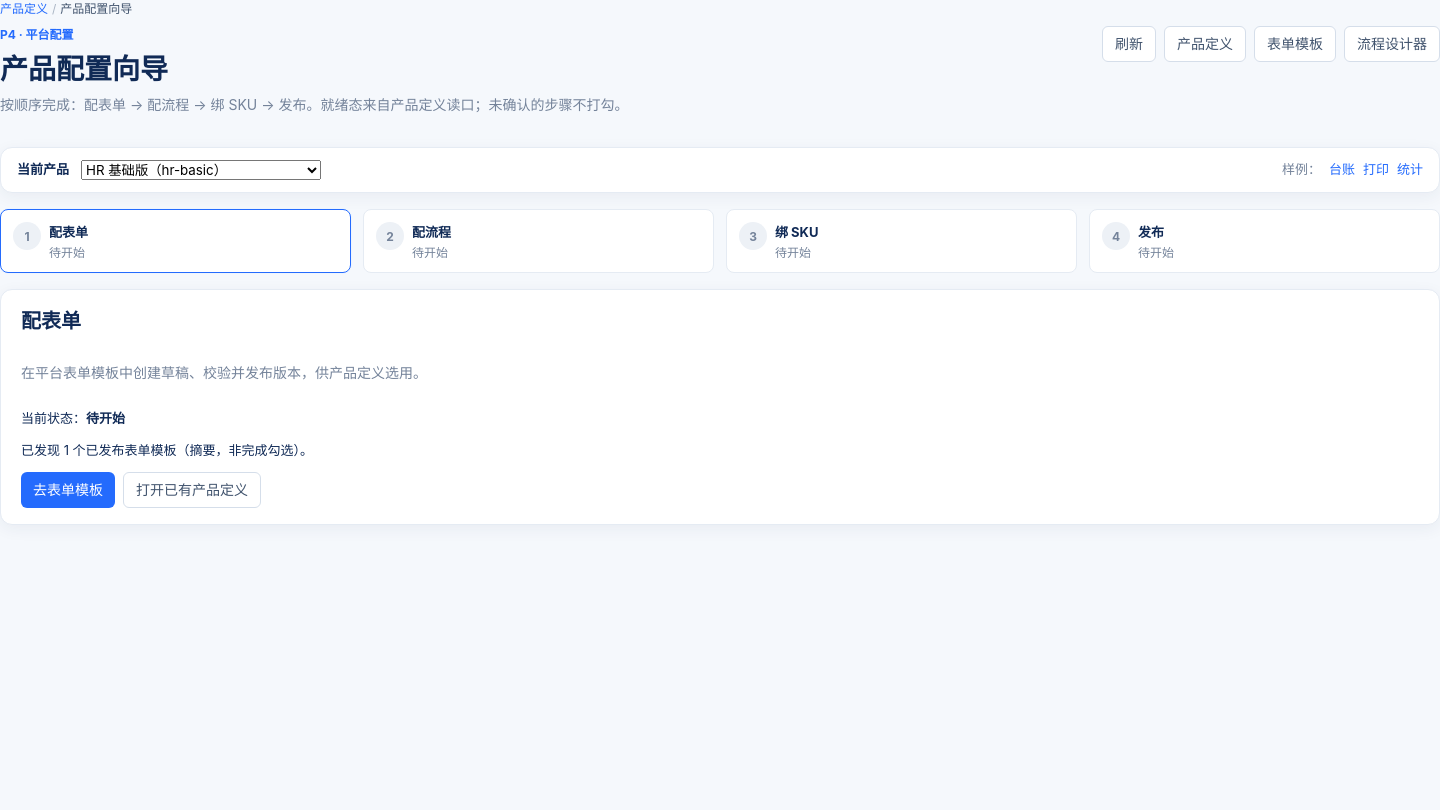
Test: product config wizard empty/error (PC3) › binds an SKU from the wizard panel via the existing bind API (PC4)
Click the button "3 绑 SKU 待开始" at [797, 232], box [727,210,1076,272]
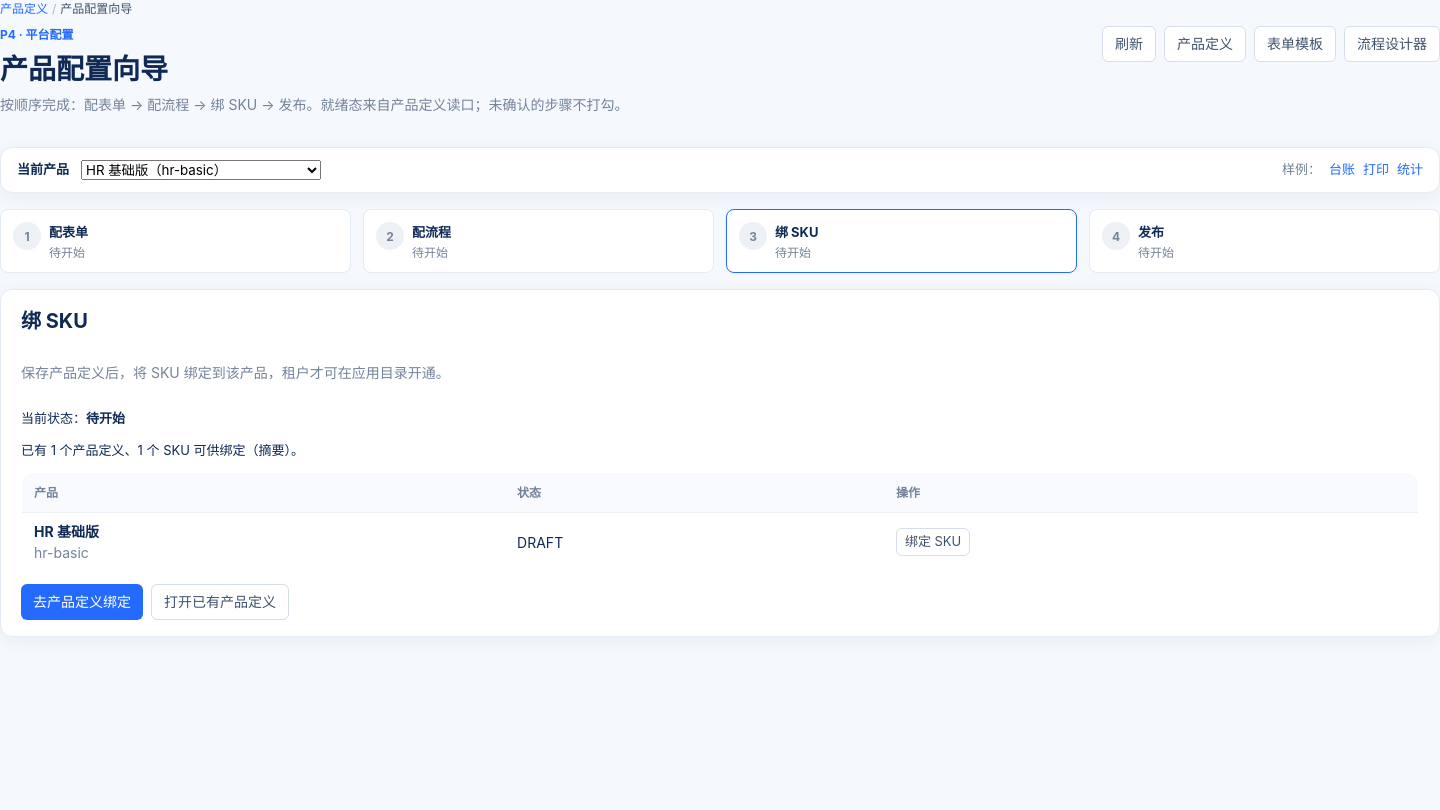
Expected: the table with test id "wizard-definition-list" shows "HR 基础版", [34,523,99,540]
Click the button with test id "wizard-bind-open-hr-basic" at [933, 542], box [896,528,970,556]
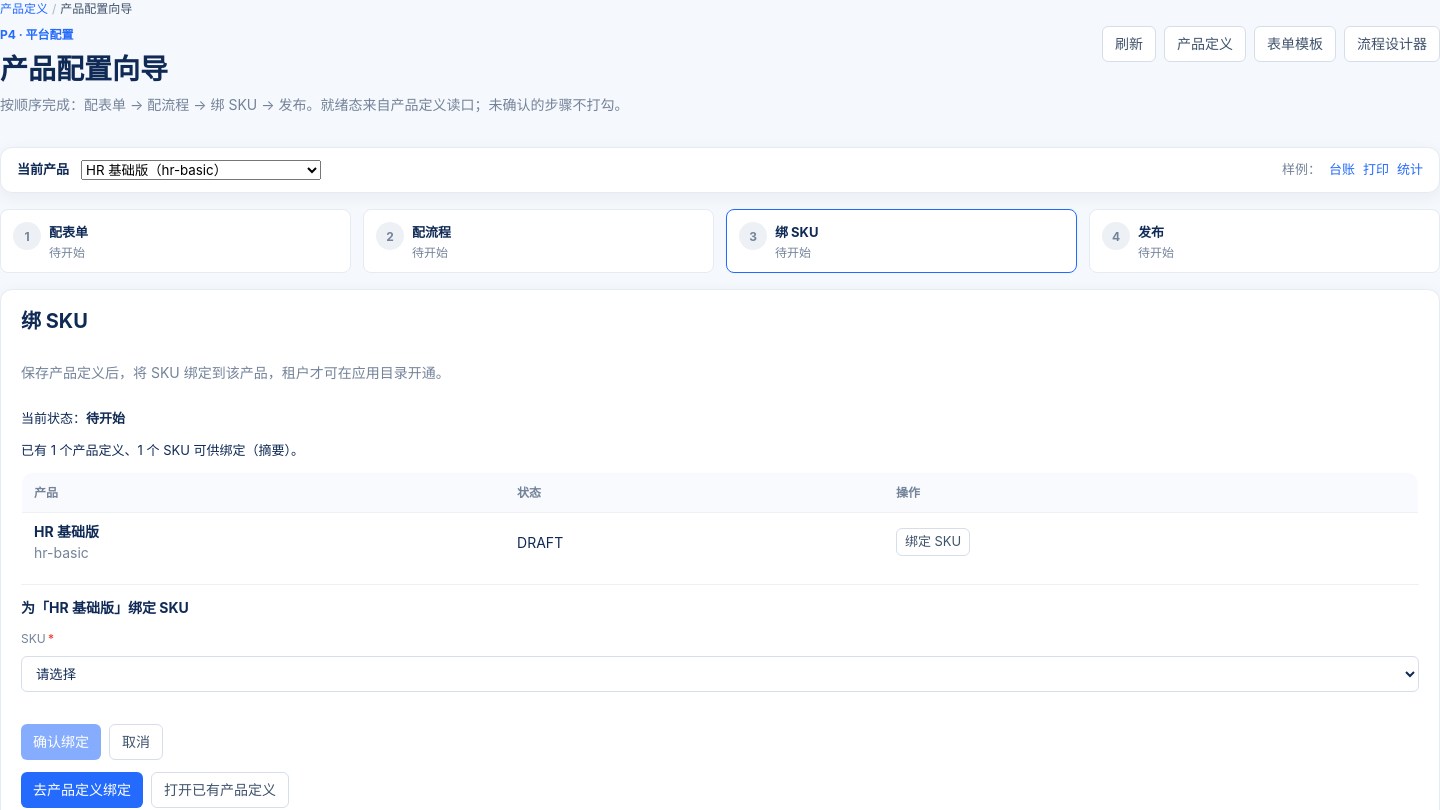
Select "专业版（crm-pro）" in the dropdown with test id "wizard-bind-sku" at [720, 674], box [21,656,1419,692]
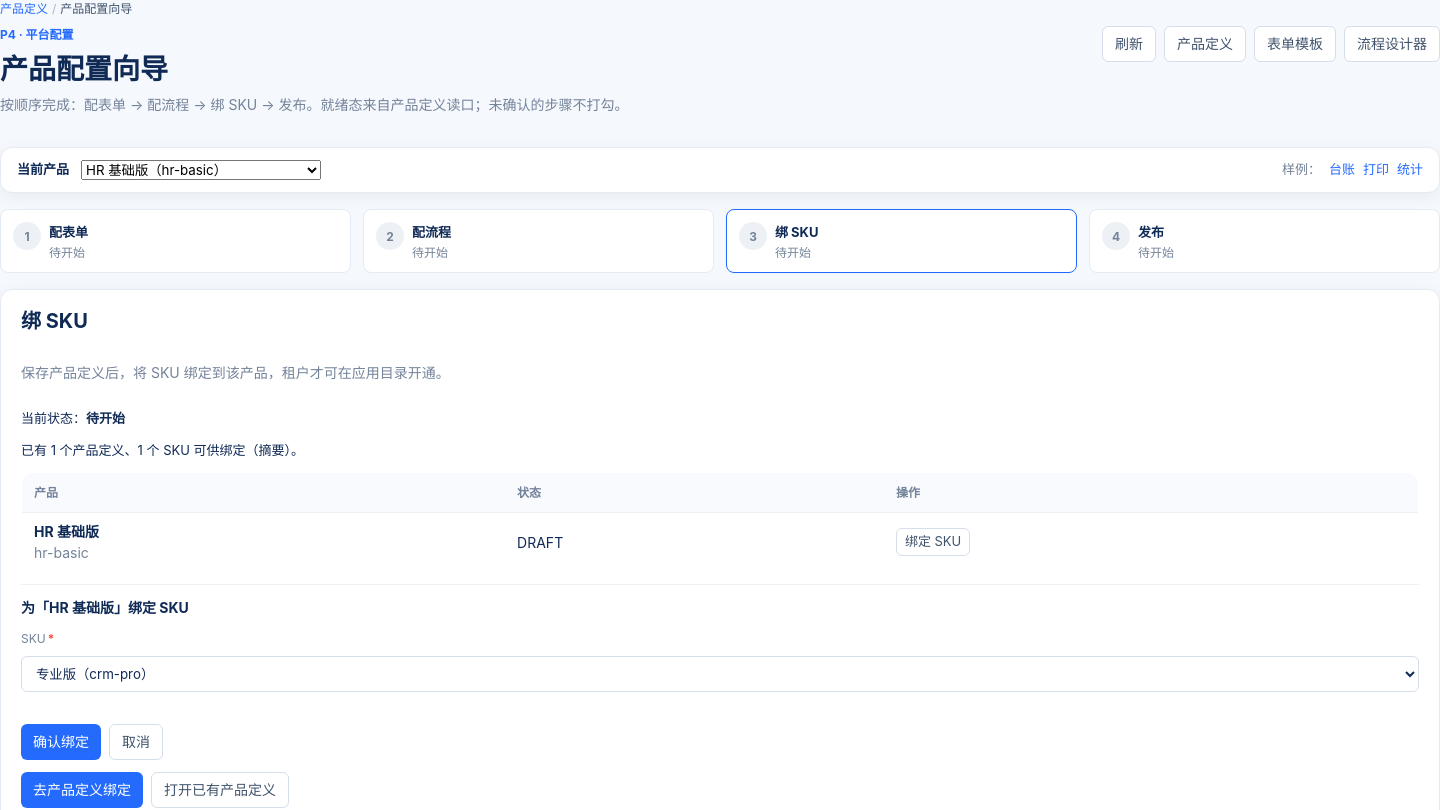
Submit the form with test id "wizard-bind-form", box [21,584,1419,760]
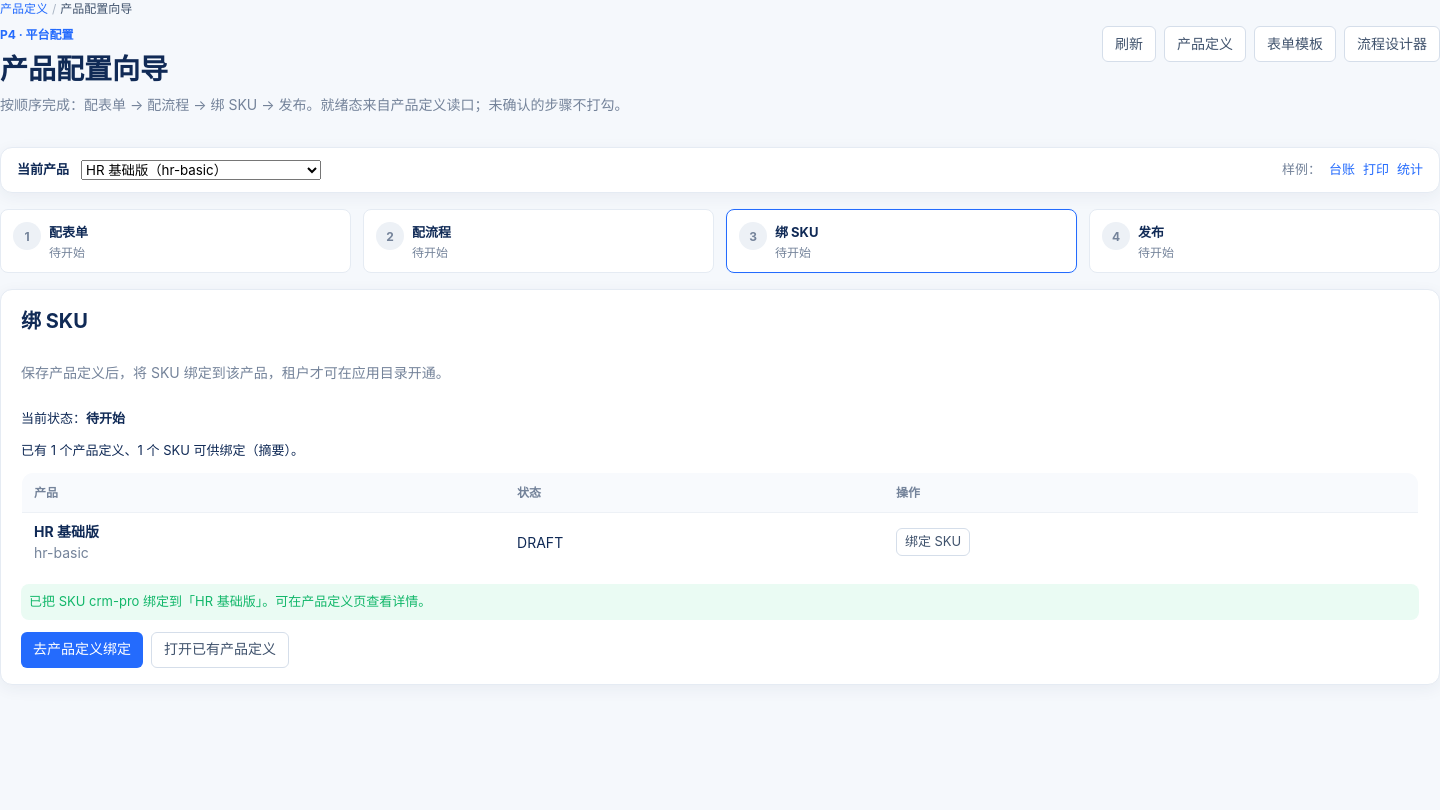
Expected: the message with test id "wizard-bind-notice" shows "crm-pro", [29,593,431,609]
